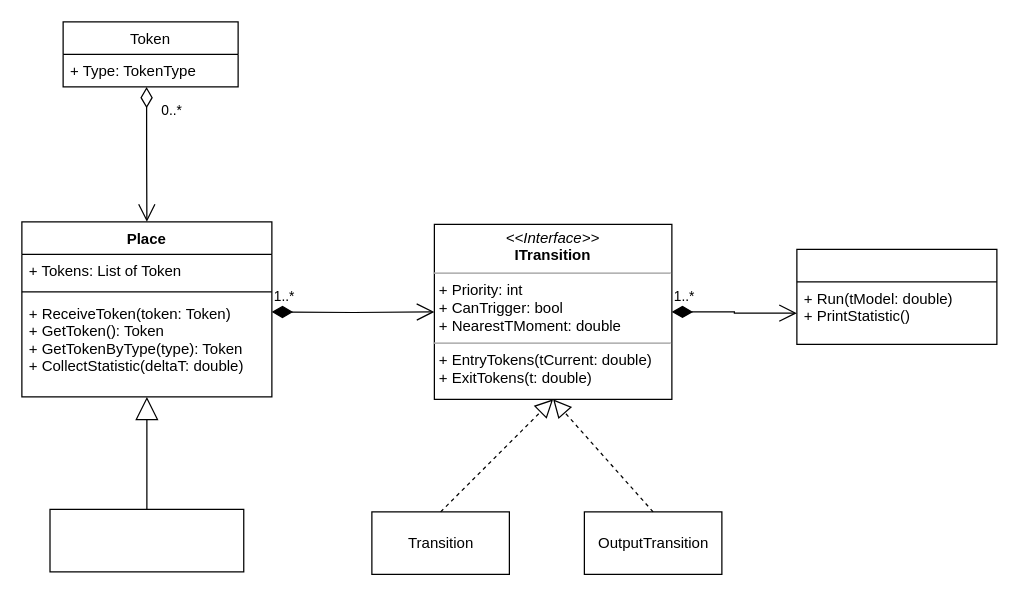
This 1019x596 diagram has some shape labels left out. Each missing label, with the box of its shape:
PetriNet: (796, 248, 997, 344)
TypeDeterminingPlace: (49, 508, 244, 572)
